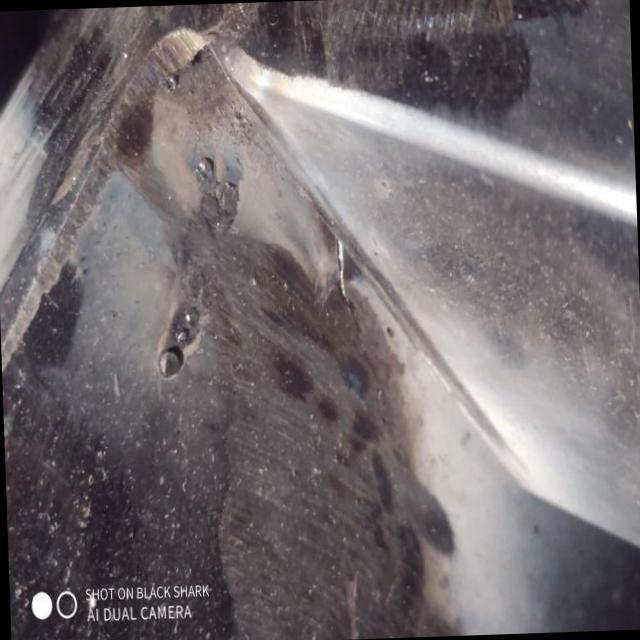defect: (334, 232, 389, 434)
